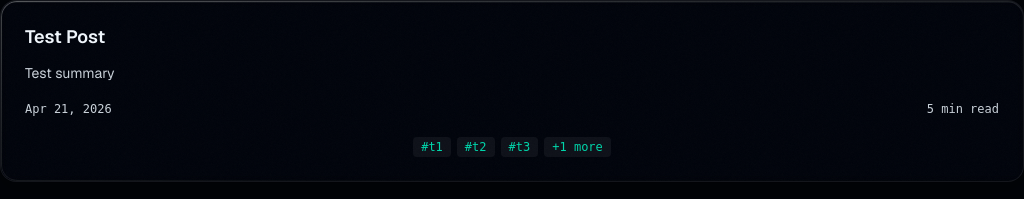
Test case: PostCard › shows expansion button and expands tags on click
Click the button "+1 more" at (578, 146), box [544,136,611,156]
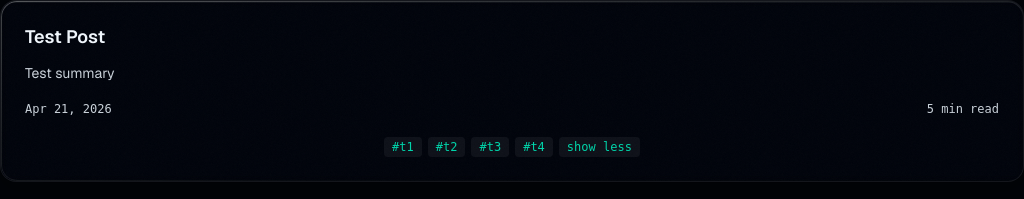
Expected: the link "#t4" is shown, [515,136,553,156]
